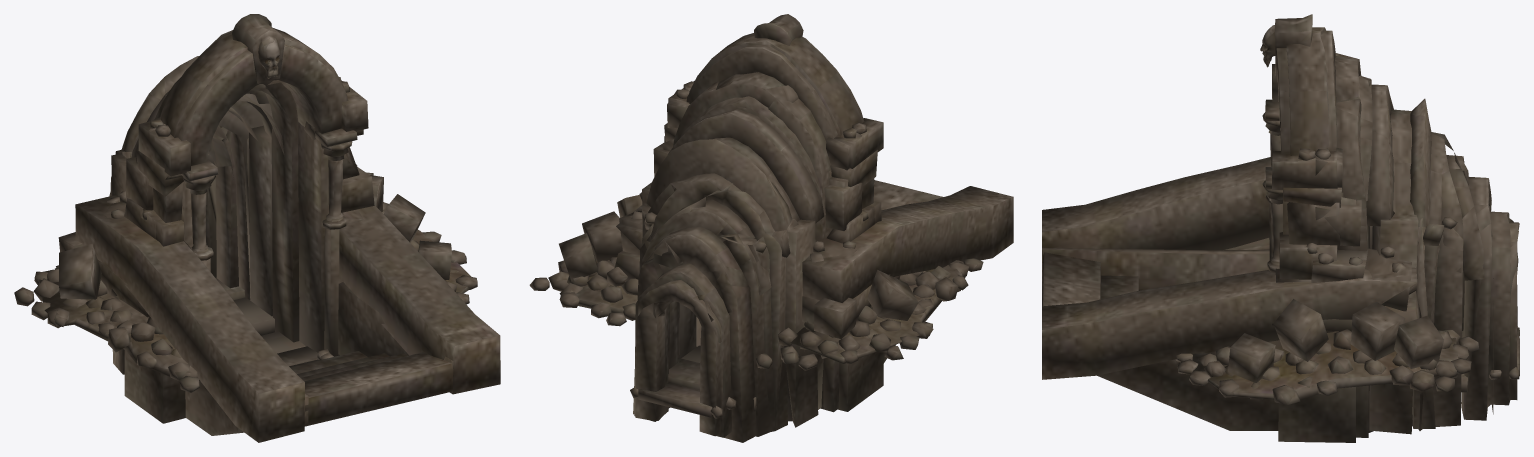
File: p_entrance.glb
The picture shows the model from 3 angles, left to right: view 1: azimuth 30°, elevation 25°; view 2: azimuth 150°, elevation 25°; view 3: azimuth 270°, elevation 25°; orthographic projection. The views are drawn at different scales.
Visible parts, largest first — view 1: p_entrance; view 2: p_entrance; view 3: p_entrance.
Part boxes in pixels (<box>): p_entrance: <box>14,14,500,442</box>; p_entrance: <box>529,14,1013,442</box>; p_entrance: <box>1042,14,1519,442</box>.
Size of the model in its own units: 2.49 by 2.27 by 2.6.
Materials: 1 (1 with a texture image).
